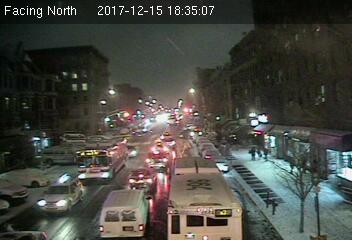bus: (168, 158, 243, 240), (76, 141, 128, 181)
car: (38, 175, 82, 211), (128, 168, 156, 190), (145, 150, 170, 170)
truck: (99, 189, 154, 239)
